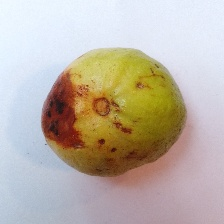guava: (35, 46, 182, 212)
